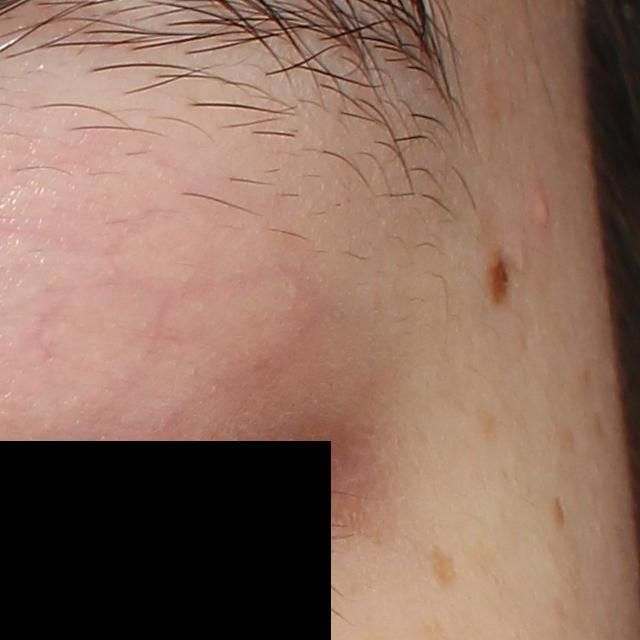melasma: (426, 543, 459, 590), (476, 405, 498, 447)
nevus: (483, 249, 511, 308)
papule: (530, 180, 557, 236)
